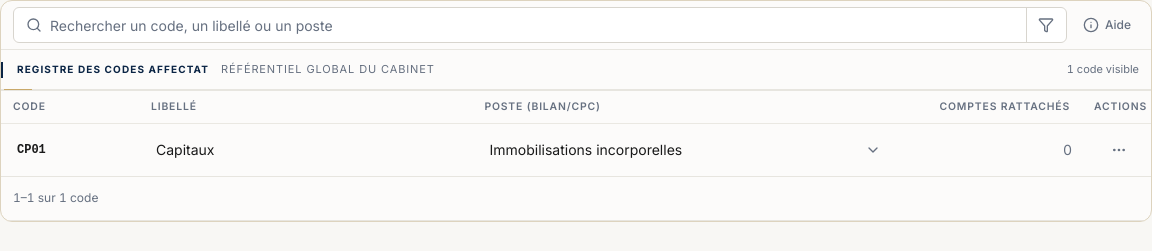
Test: global AFFECTAT mapping safeguards › reverts a failed inline label save and exposes the failure
Step 1. Replace the text in the field named "Libellé du code CP01" with "Nouveau libellé" → (306, 150), box [147,134,464,166]
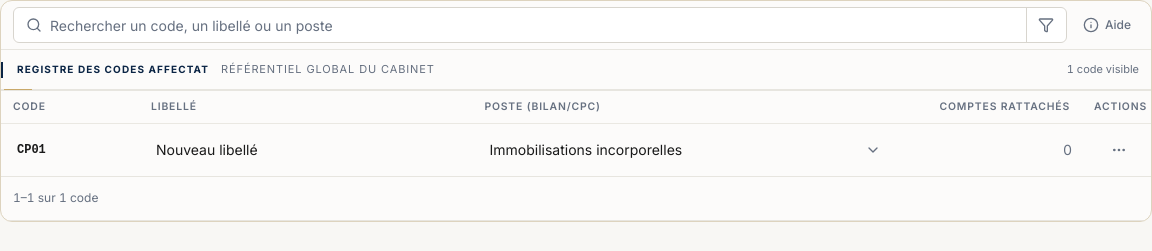
Step 2. Leave the field named "Libellé du code CP01", box [147,134,464,166]
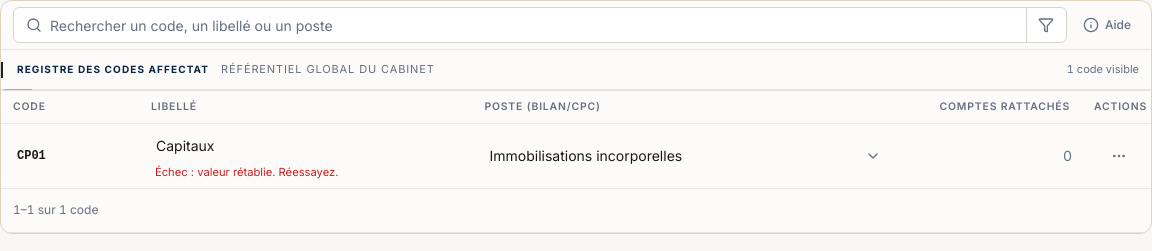
Result: the text "Échec : valeur rétablie. Réessayez." is shown at [155,164,338,178]
Result: the field named "Libellé du code CP01" holds "Capitaux" at [147,130,464,162]
